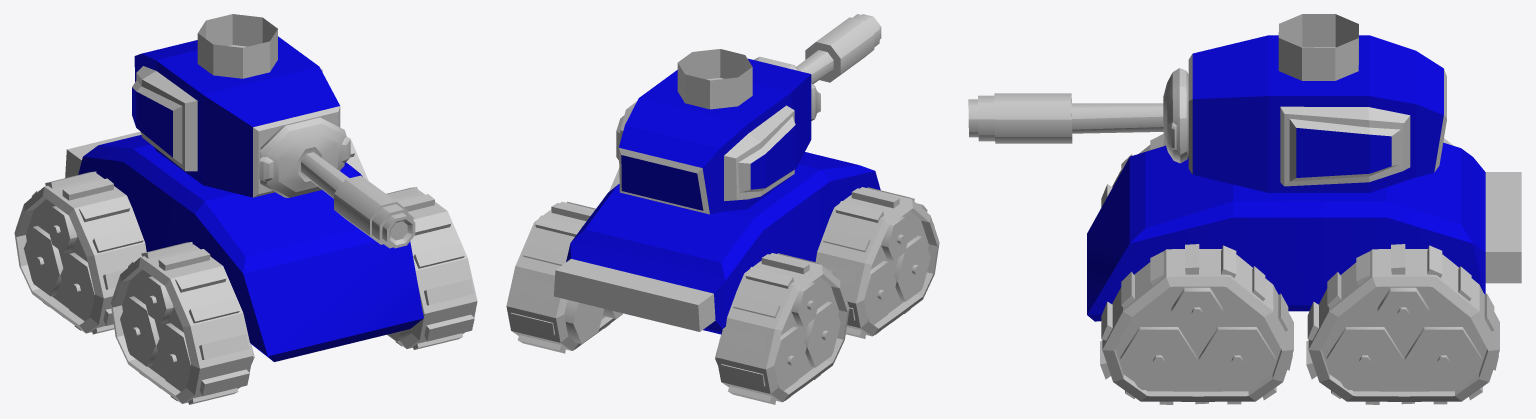
The model's file is Tank(1Level).fbx.
3 views of the same model, side by side, from view 1: azimuth 30°, elevation 25°; view 2: azimuth 150°, elevation 25°; view 3: azimuth 270°, elevation 25° (orthographic). The views are drawn at different scales.
Parts seen in each view (by area): view 1: Tank, TankTurret; view 2: Tank, TankTurret; view 3: Tank, TankTurret.
Boxes of the visible parts, x1,y1,x2,y2 form: Tank: (14,131,477,404); TankTurret: (132,14,415,248); Tank: (506,152,939,404); TankTurret: (616,14,881,214); Tank: (1087,134,1521,404); TankTurret: (968,14,1446,192).
Bounding box in the file's own units: 322 × 304 × 501.
